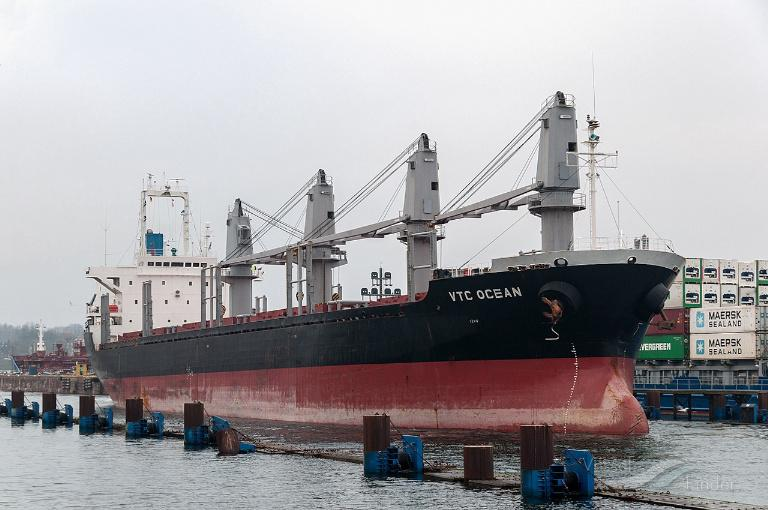OCR: (442, 282, 523, 310)
